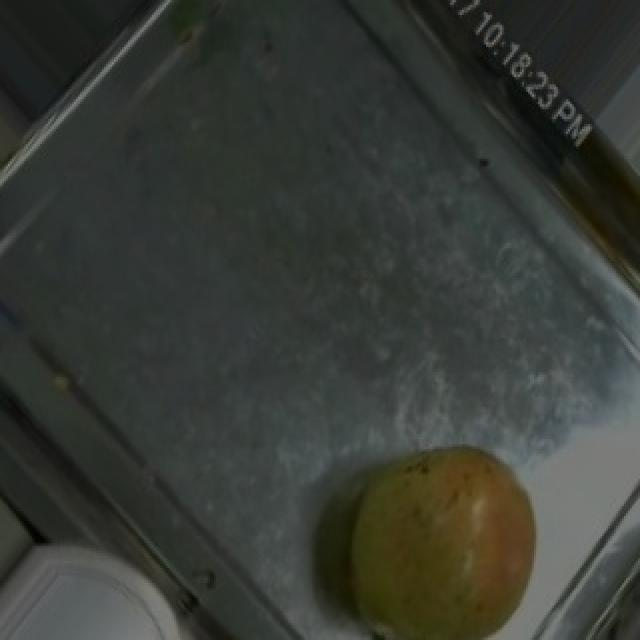fruit: (328, 417, 568, 635)
